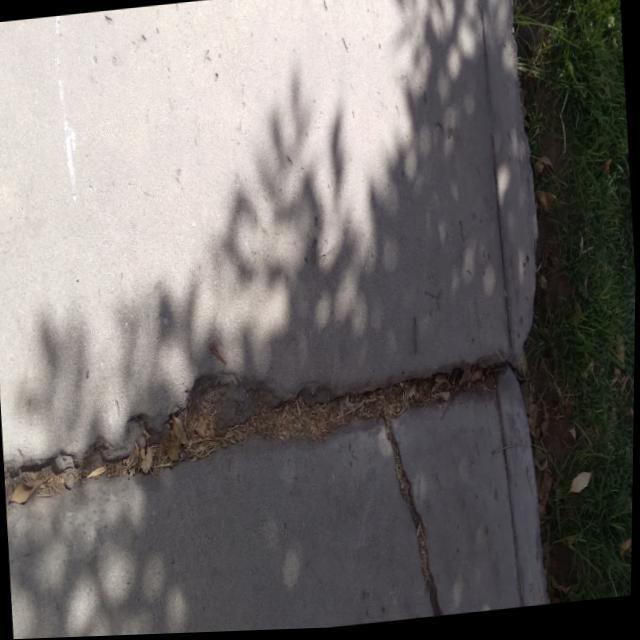hole: (0, 327, 533, 506)
